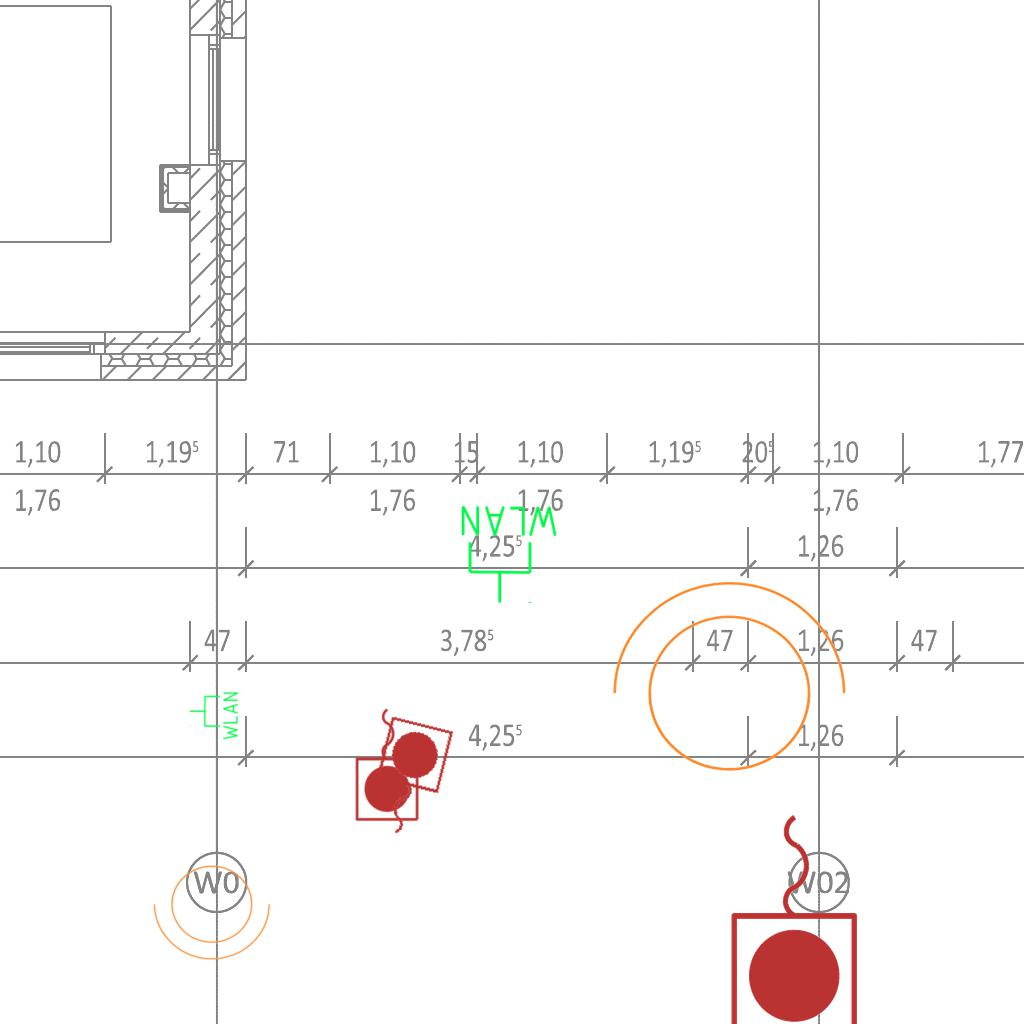Scheinwerfer_fuer_Alarmbeleuchtung: (591, 571, 855, 796), (149, 853, 281, 965)
WLAN: (457, 502, 562, 606), (188, 690, 240, 742)
Zugtaster: (724, 804, 868, 1024), (358, 711, 458, 847), (352, 703, 424, 825)
